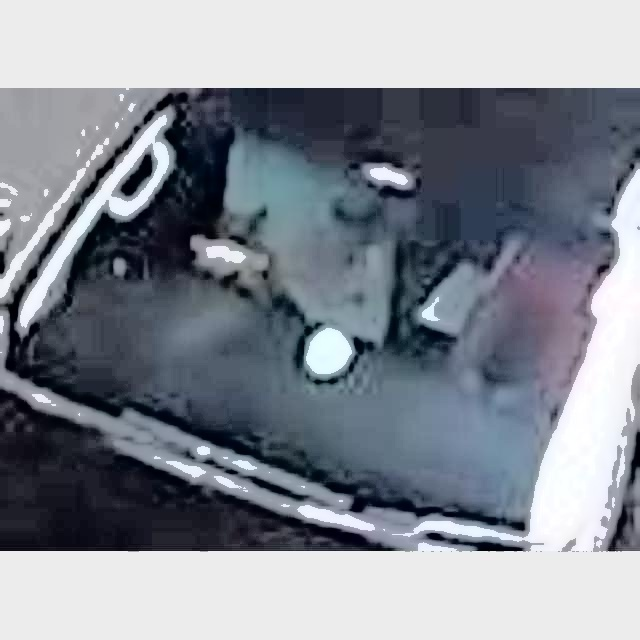tidak-pakai: (177, 126, 377, 327), (468, 222, 597, 427)
